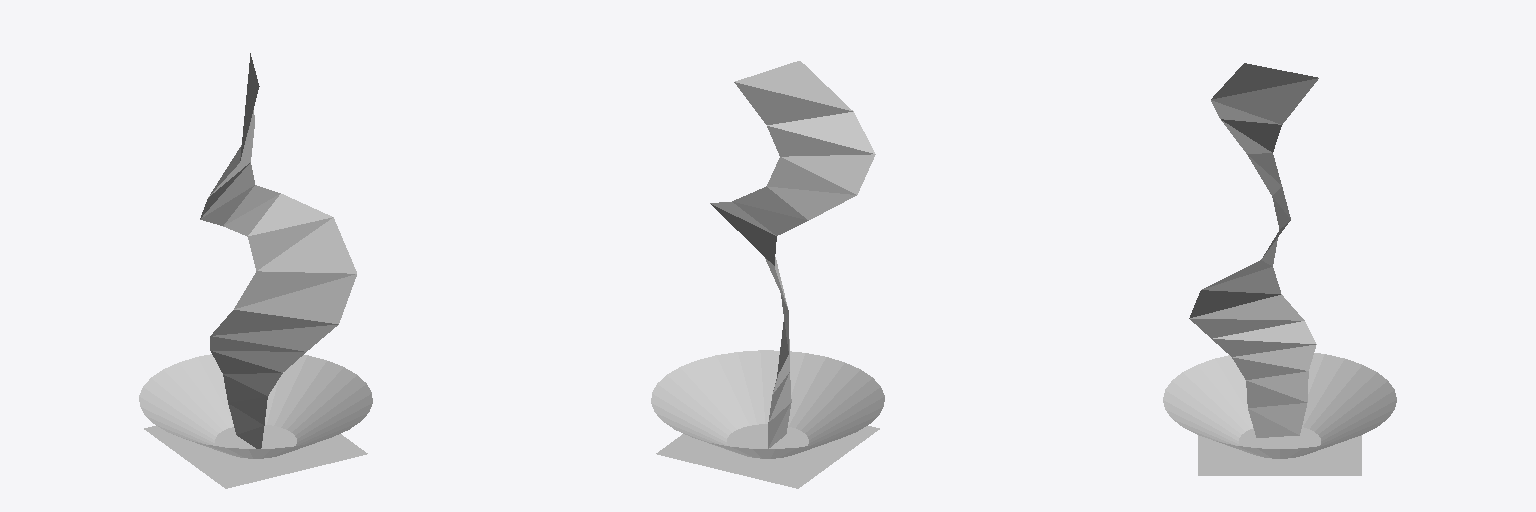
The model's file is Lightning_mesh.obj.
3 views of the same model, side by side, from view 1: azimuth 30°, elevation 25°; view 2: azimuth 150°, elevation 25°; view 3: azimuth 270°, elevation 25° (orthographic).
Parts seen in each view (by area): view 1: Plane; view 2: Plane; view 3: Plane.
Part boxes in pixels (x1,y1,x2,y2): Plane: (139,53,372,488); Plane: (651,61,884,488); Plane: (1163,63,1396,475).
Bounding box in the file's own units: 5.68 × 9.96 × 5.68.